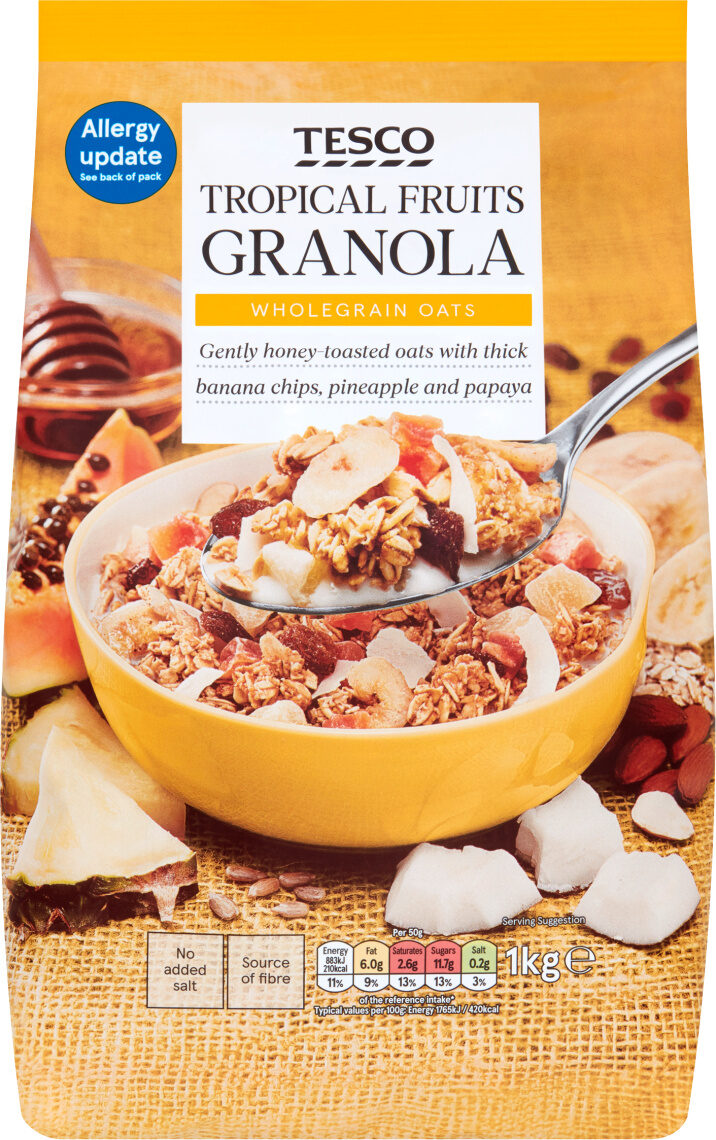Tropical Fruits Granola: (36, 57, 680, 1083)
